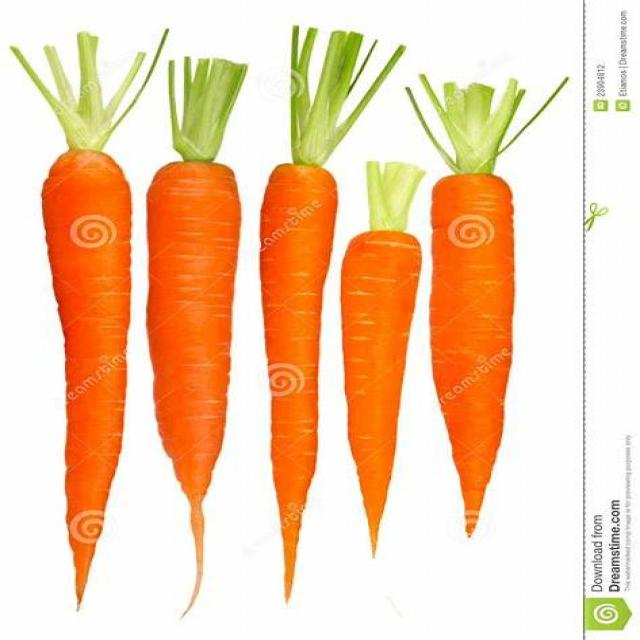Carrot: (143, 160, 242, 627), (256, 166, 342, 607), (41, 153, 122, 612), (425, 171, 514, 542), (332, 229, 414, 551)
